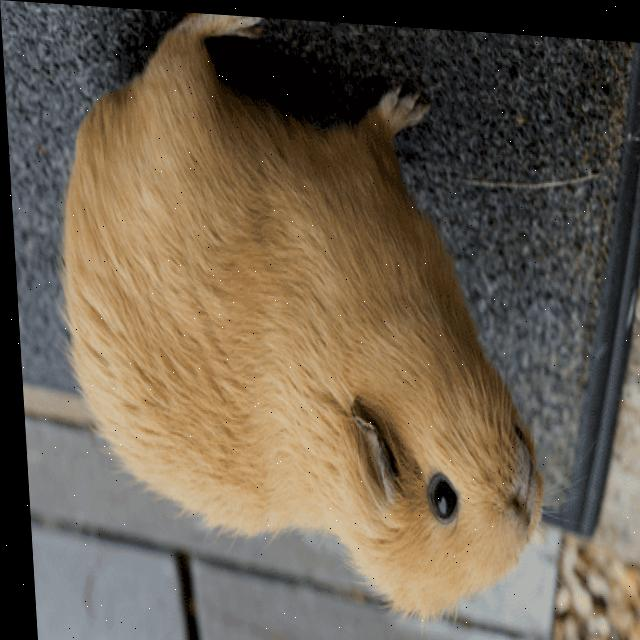guinea pig: (47, 2, 544, 617)
